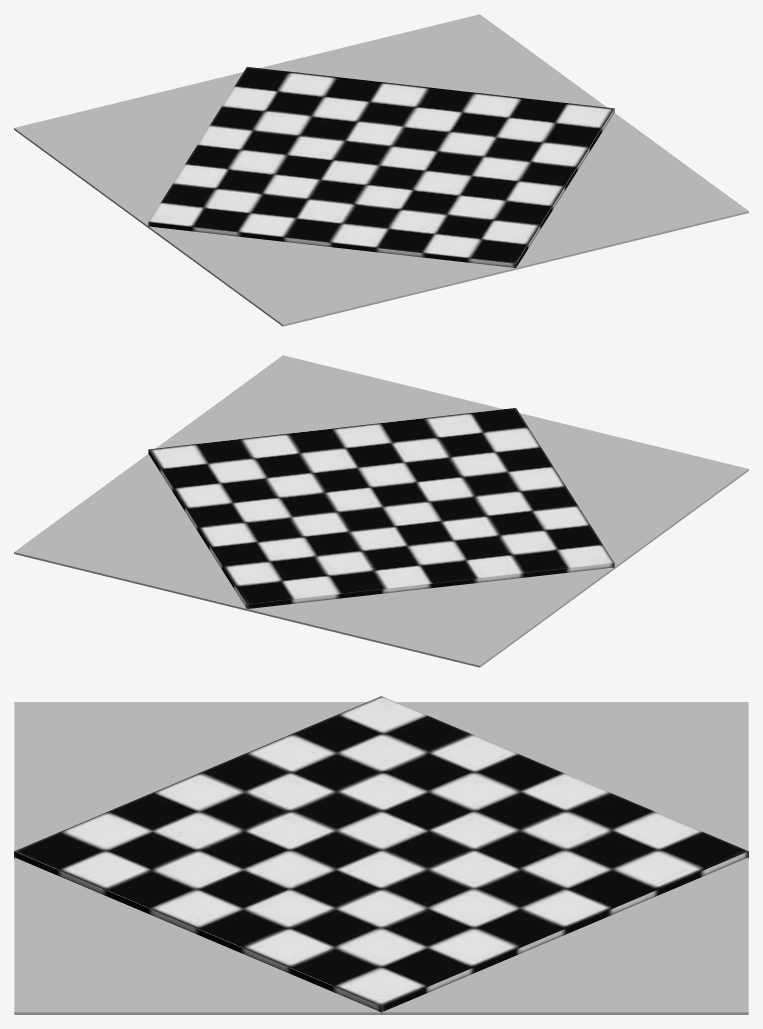
File: Tabuleiro.FBX
3 renders of one model, top to bottom at view 1: azimuth 30°, elevation 25°; view 2: azimuth 150°, elevation 25°; view 3: azimuth 270°, elevation 25°, orthographic. The views are drawn at different scales.
Parts seen in each view (by area): view 1: tab<, tab>; view 2: tab<, tab>; view 3: tab<, tab>.
Part boxes in pixels (box(x1,y1,x2,y2)): tab<: box(148, 67, 614, 267); tab>: box(14, 14, 748, 326); tab<: box(148, 408, 614, 608); tab>: box(14, 355, 748, 667); tab<: box(14, 696, 748, 1014); tab>: box(14, 702, 748, 1014).
Bounding box in the file's own units: 800 × 10 × 800.
